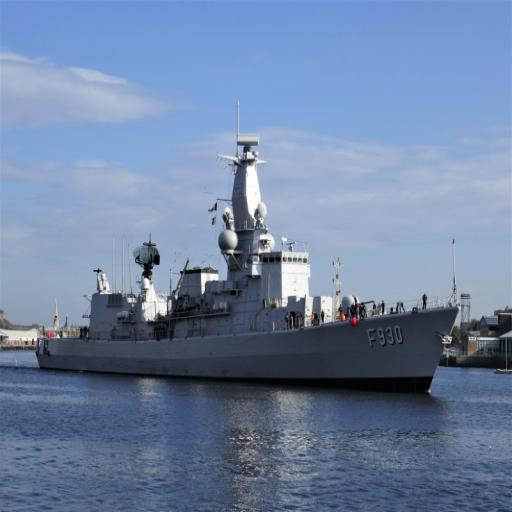Fragata: (32, 103, 466, 397)
